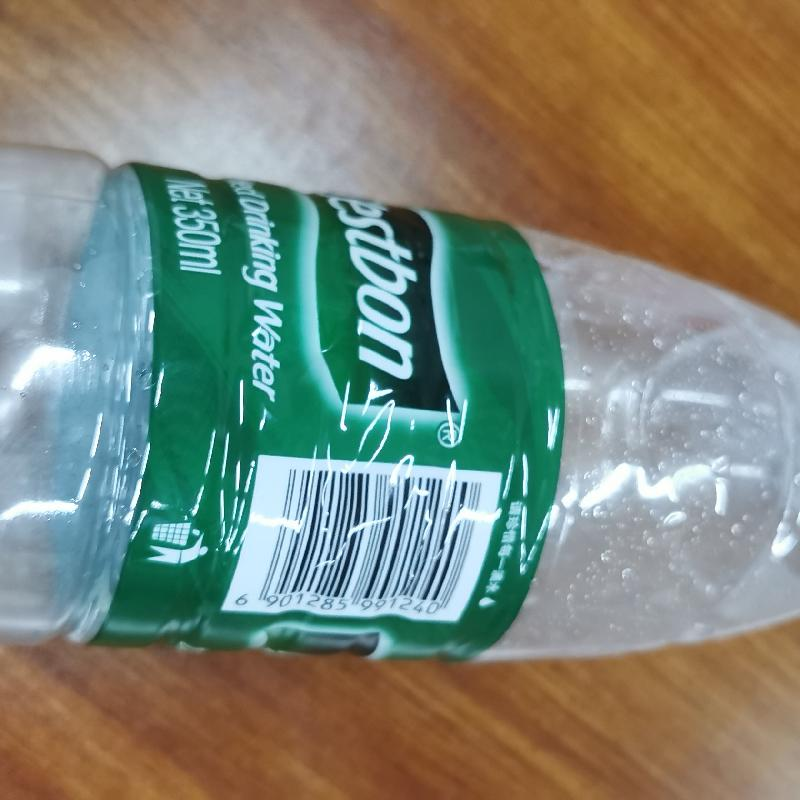bottles: (3, 135, 799, 668)
